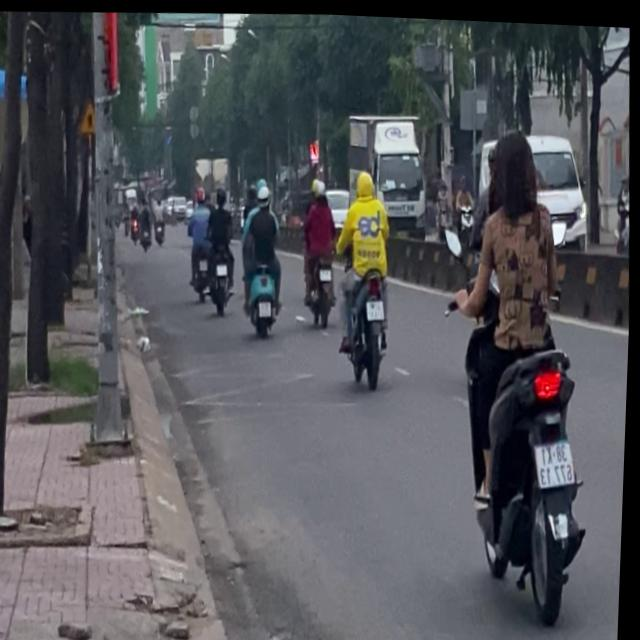helmet: (357, 165, 377, 195)
licenseplate: (443, 111, 605, 622), (333, 162, 402, 386)
motorcyclist: (489, 121, 543, 212)
nohelmet: (539, 434, 580, 482), (368, 294, 387, 316)
